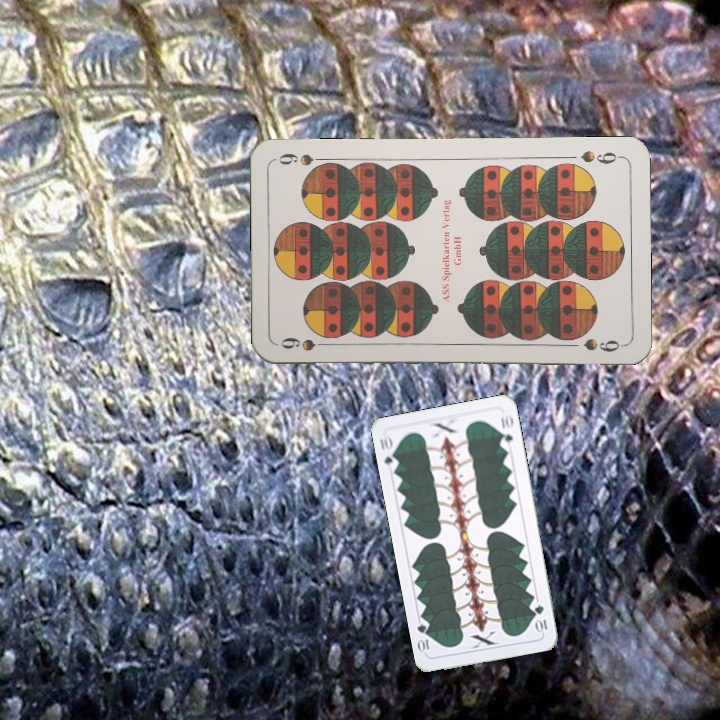G10: (375, 431, 401, 471), (531, 601, 550, 635)
S9: (276, 334, 335, 354), (577, 146, 624, 166)
